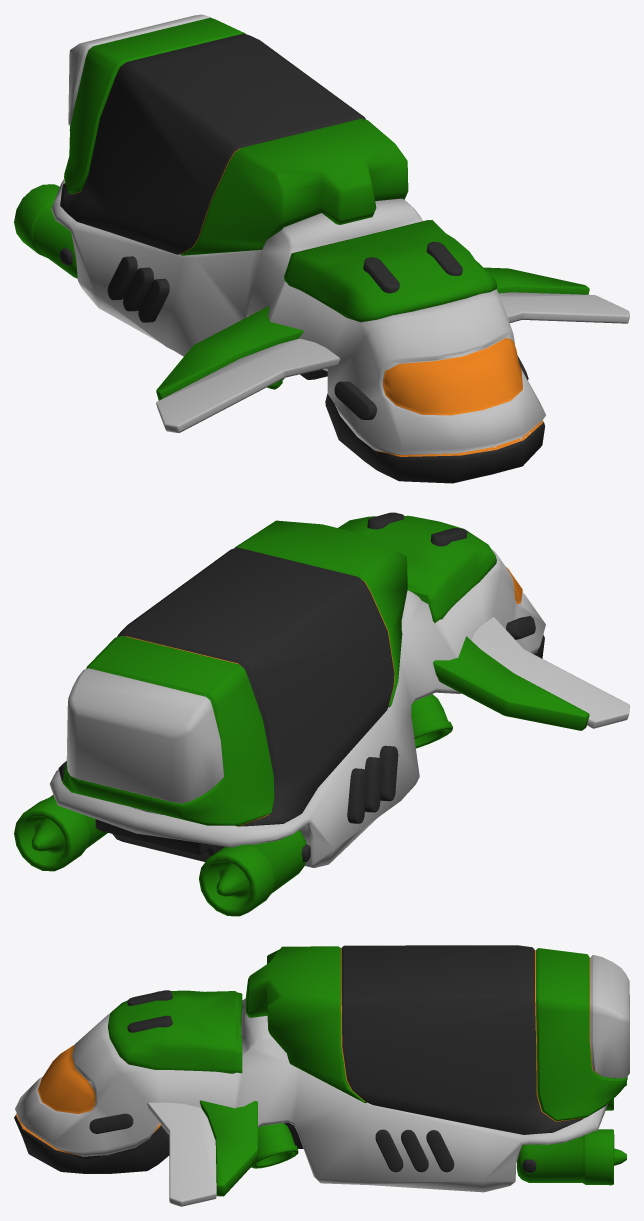
The picture shows the model from 3 angles, top to bottom: view 1: azimuth 30°, elevation 25°; view 2: azimuth 150°, elevation 25°; view 3: azimuth 270°, elevation 25°; orthographic projection. The views are drawn at different scales.
Parts seen in each view (by area): view 1: Сargo_ship.002; view 2: Сargo_ship.002; view 3: Сargo_ship.002.
Part boxes in pixels (x1=…): Сargo_ship.002: x1=14, y1=14, x2=629, y2=483; Сargo_ship.002: x1=14, y1=512, x2=629, y2=916; Сargo_ship.002: x1=14, y1=945, x2=629, y2=1206.
Bounding box in the file's own units: 8.86 × 3.89 × 12.29.
